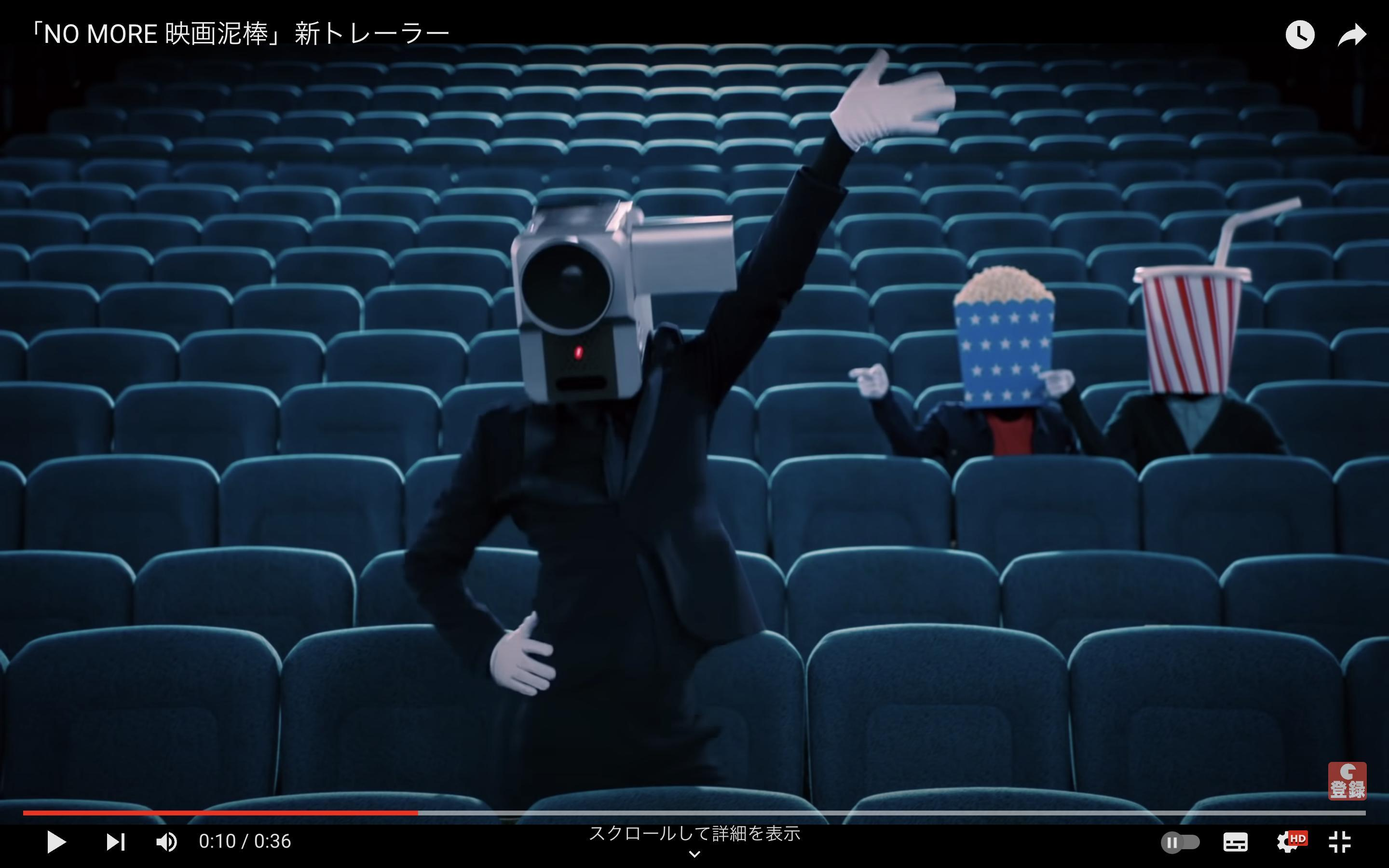no more kid: (508, 207, 739, 405)
